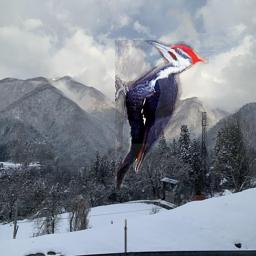Woodpecker: (115, 40, 209, 195)
